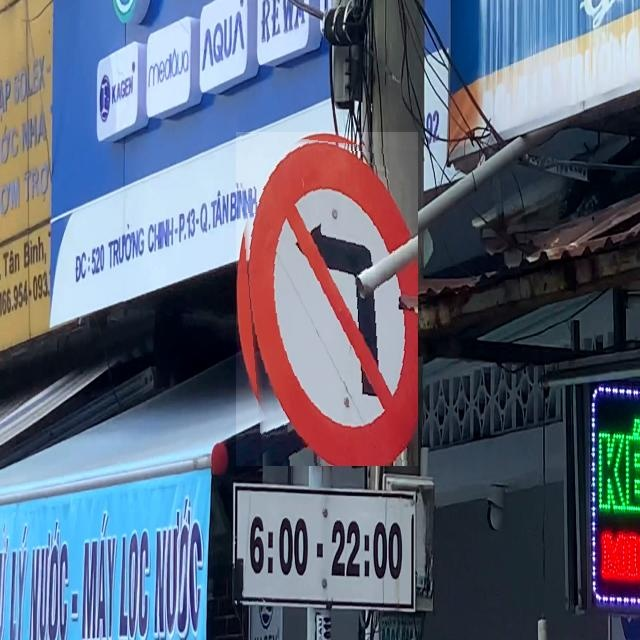bien_cam: (236, 132, 418, 466)
